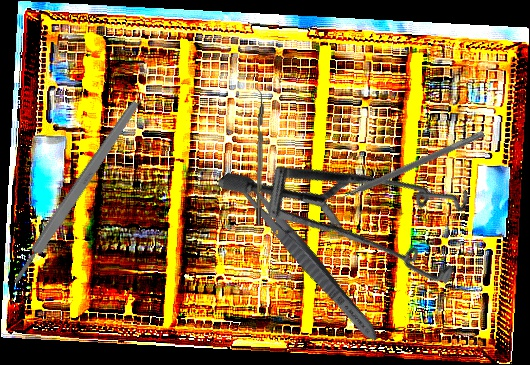Chopper: (249, 87, 266, 226)
Dressing Forceps: (225, 168, 385, 347)
Scalpel Handle: (9, 98, 142, 287)
Spatula Surgical: (325, 122, 486, 209)
Speculum: (216, 62, 504, 351)
